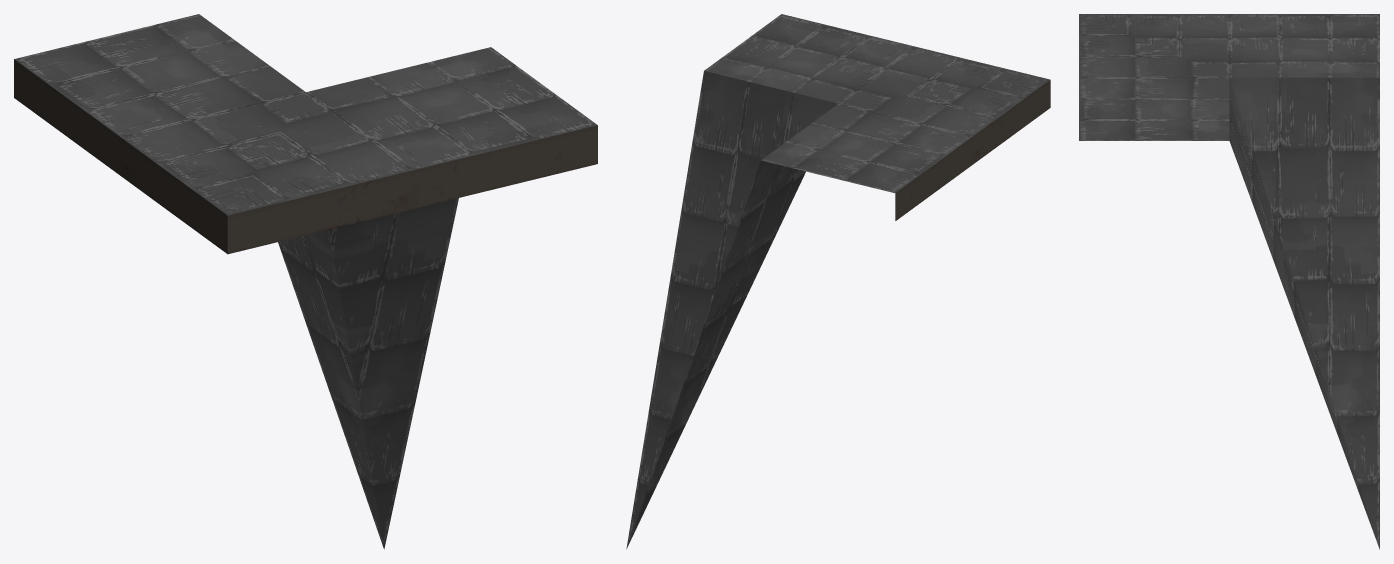
Rendered from q-downtown-roof-slate-innercorner.glb.
3 renders of one model, left to right at view 1: azimuth 30°, elevation 25°; view 2: azimuth 150°, elevation 25°; view 3: azimuth 270°, elevation 25°, orthographic. The views are drawn at different scales.
Parts seen in each view (by area): view 1: Roof_Slate_InnerCorner; view 2: Roof_Slate_InnerCorner; view 3: Roof_Slate_InnerCorner.
Part boxes in pixels (x1,y1,x2,y2): Roof_Slate_InnerCorner: (14, 14, 597, 549); Roof_Slate_InnerCorner: (626, 14, 1050, 549); Roof_Slate_InnerCorner: (1079, 14, 1379, 549).
Size of the model in its own units: 2 by 3 by 2.
Materials: 2 (2 with a texture image).
